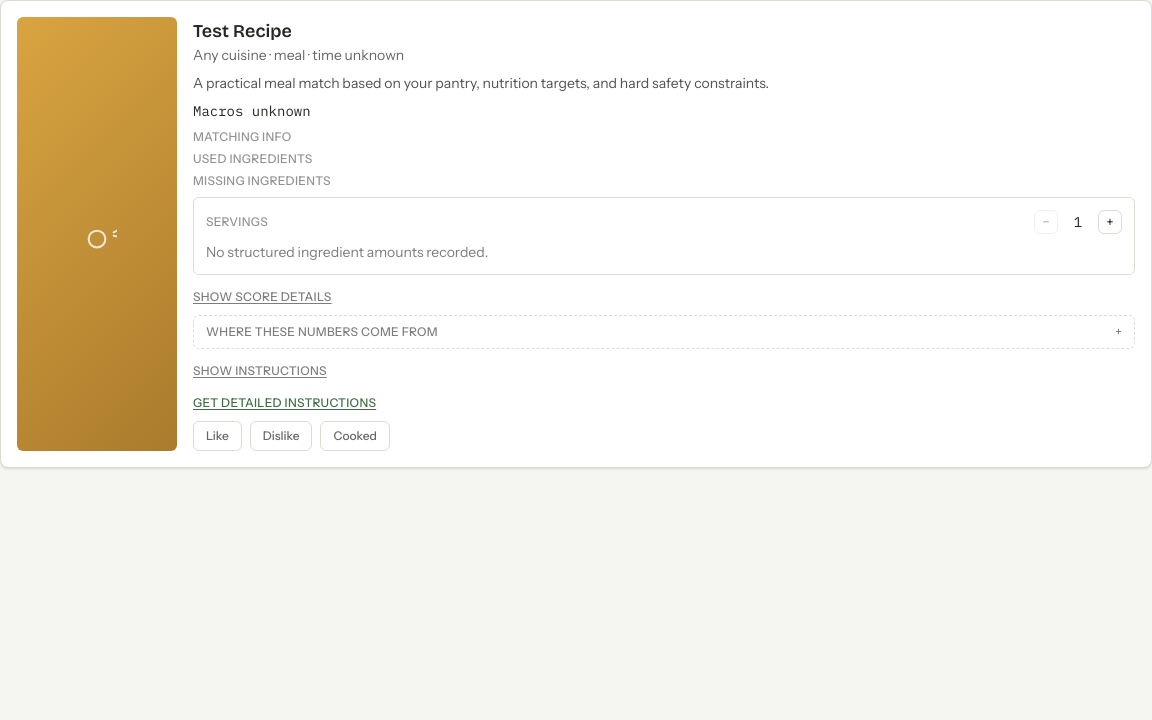
Test: RecipeCard 'Get detailed instructions' › handles an error response gracefully, without crashing
Click the button "Get detailed instructions" at [285, 403], box top-left (193, 395), bottom-right (376, 411)
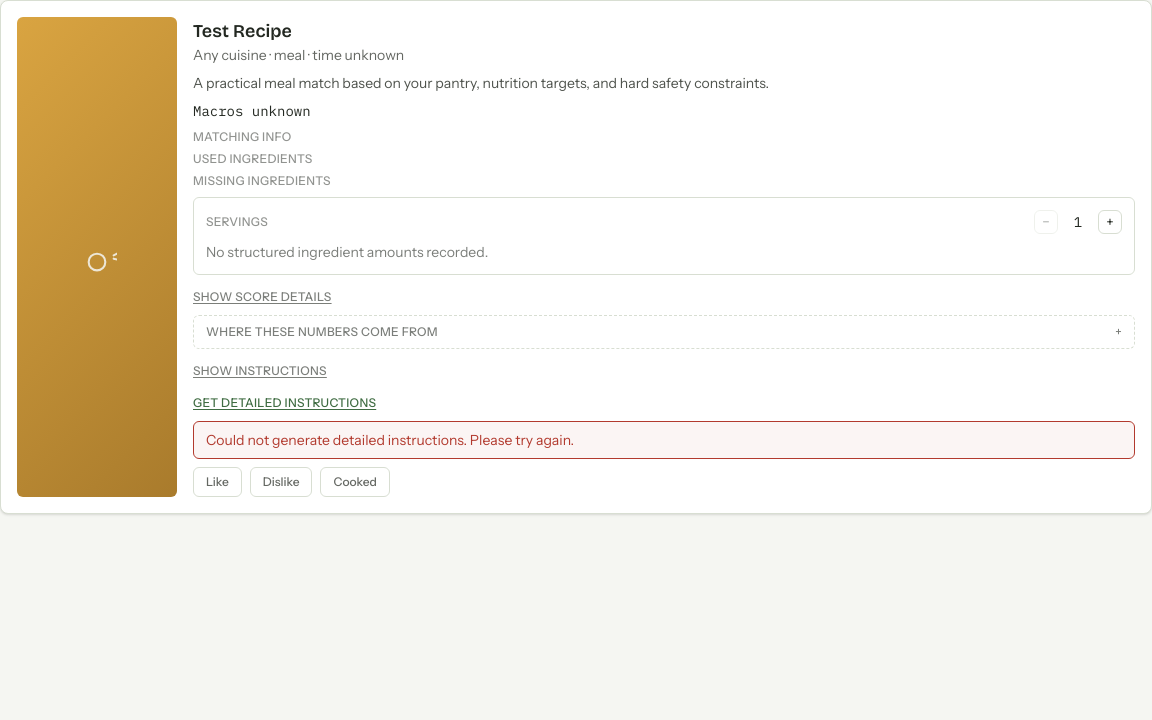
Expected: the text "Could not generate detailed instructions. Please try again." is shown, top-left (193, 421), bottom-right (1135, 459)
